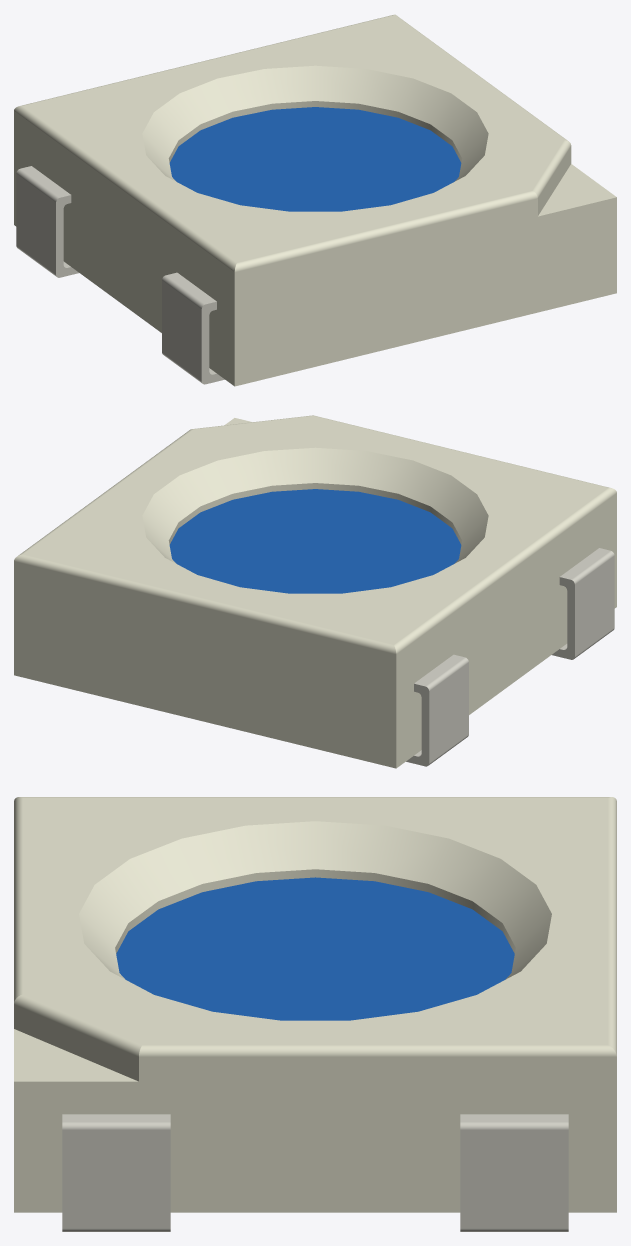
Rendered from LED_SMD_LED_WS2812B_PLCC4_5.0x5.0mm_P3.2mm.lo.glb.
3 views of the same model, one above another, from view 1: azimuth 30°, elevation 25°; view 2: azimuth 150°, elevation 25°; view 3: azimuth 270°, elevation 25° (orthographic). The views are drawn at different scales.
Parts seen in each view (by area): view 1: LED_WS2812B_PLCC4_50x50mm_P32mm; view 2: LED_WS2812B_PLCC4_50x50mm_P32mm; view 3: LED_WS2812B_PLCC4_50x50mm_P32mm.
Part boxes in pixels (x1,y1,x2,y2): LED_WS2812B_PLCC4_50x50mm_P32mm: (14,14,616,386); LED_WS2812B_PLCC4_50x50mm_P32mm: (14,415,616,768); LED_WS2812B_PLCC4_50x50mm_P32mm: (14,797,616,1231).
Size of the model in its own units: 0.0054 by 0.0016 by 0.005.
